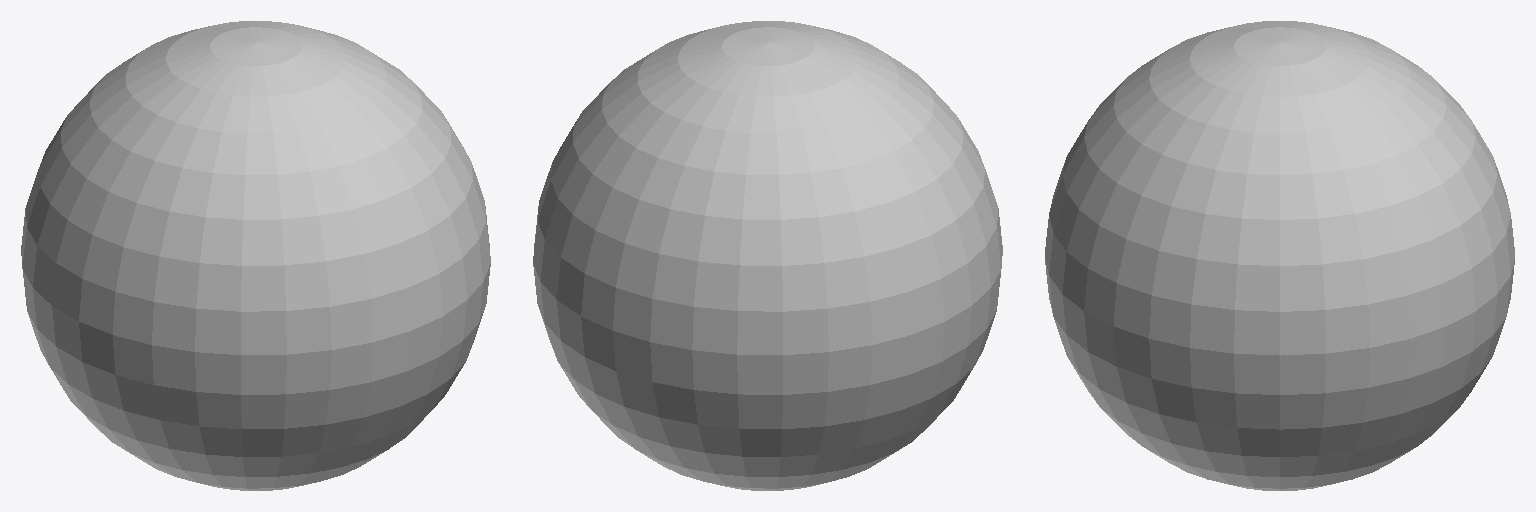
The model's file is dome.obj.
The picture shows the model from 3 angles: view 1: azimuth 30°, elevation 25°; view 2: azimuth 150°, elevation 25°; view 3: azimuth 270°, elevation 25°; orthographic projection.
Parts seen in each view (by area): view 1: Sphere.001; view 2: Sphere.001; view 3: Sphere.001.
Boxes of the visible parts, box(x1,y1,x2,y2) form: Sphere.001: box(21, 21, 490, 490); Sphere.001: box(533, 21, 1002, 490); Sphere.001: box(1045, 21, 1514, 490).
Bounding box in the file's own units: 55.49 × 55.49 × 55.49.